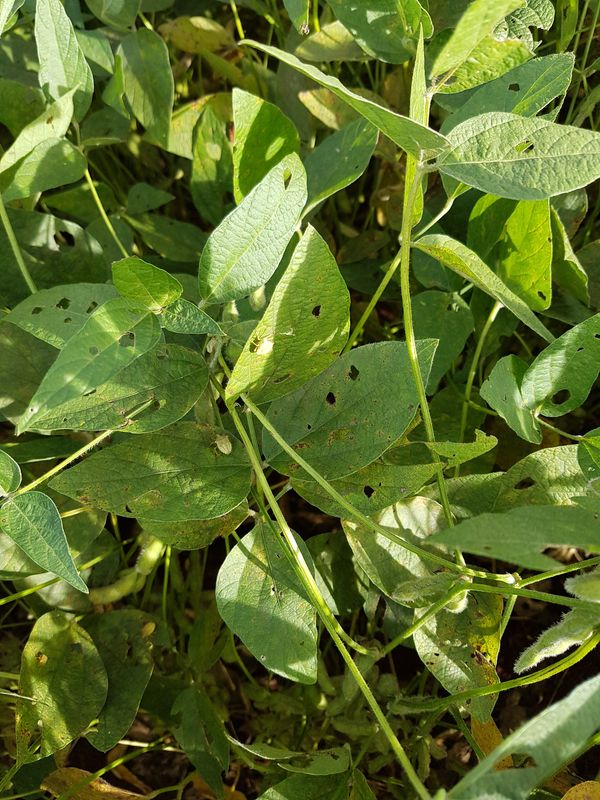Euschistus_heros_ninfa: (244, 328, 280, 365), (206, 428, 239, 463)
